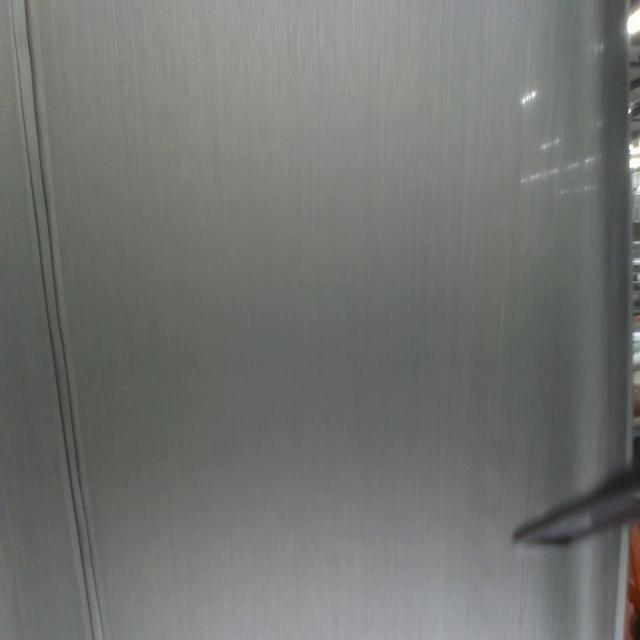crease: (7, 0, 111, 640)
